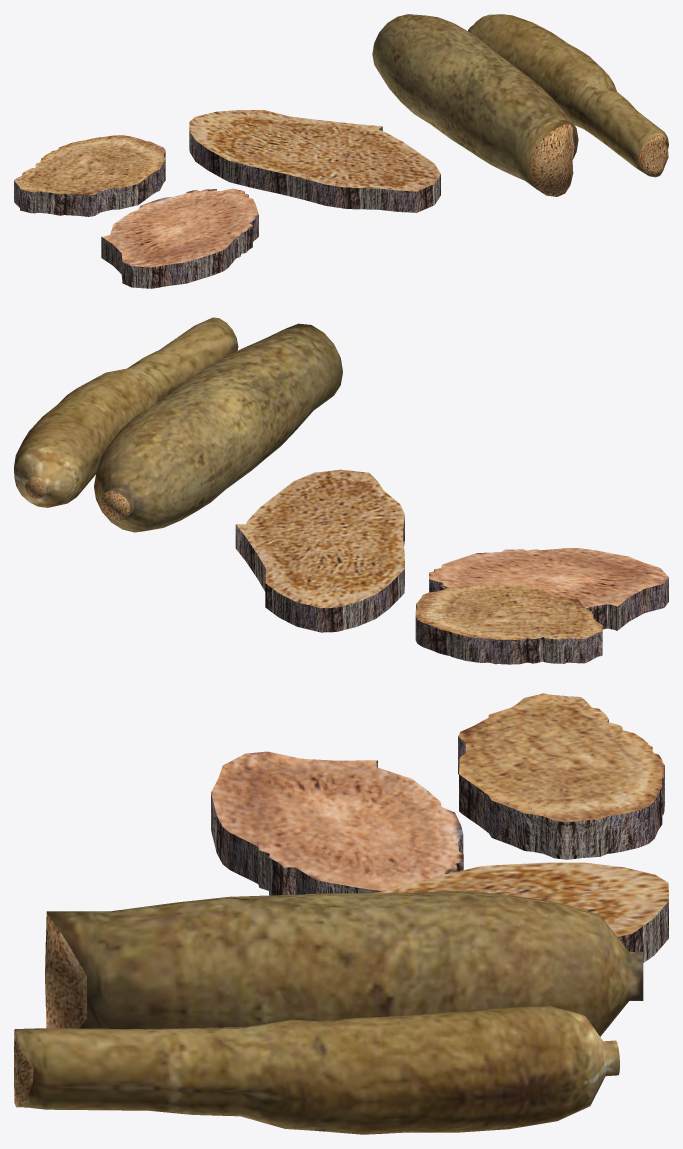
Rendered from muxiang.FBX.
3 renders of one model, top to bottom at view 1: azimuth 30°, elevation 25°; view 2: azimuth 150°, elevation 25°; view 3: azimuth 270°, elevation 25°, orthographic. The views are drawn at different scales.
Visible parts, largest first — view 1: Cylinder001, Line003, Line002, Cylinder002, Line001; view 2: Cylinder001, Line003, Cylinder002, Line001, Line002; view 3: Cylinder001, Cylinder002, Line002, Line001, Line003.
Boxes of the visible parts, x1,y1,x2,y2 form: Cylinder001: (372, 14, 578, 196); Line003: (189, 110, 440, 212); Line002: (101, 188, 258, 288); Cylinder002: (468, 14, 668, 177); Line001: (14, 135, 165, 216); Cylinder001: (94, 323, 342, 532); Line003: (235, 469, 404, 632); Cylinder002: (14, 317, 238, 507); Line001: (415, 584, 602, 664); Line002: (429, 548, 668, 630); Cylinder001: (45, 891, 643, 1036); Cylinder002: (14, 1005, 619, 1134); Line002: (211, 751, 463, 895); Line001: (458, 693, 664, 859); Line003: (374, 862, 668, 962).
Size of the model in its own units: 785 by 173 by 482.
Materials: 2 (2 with a texture image).
